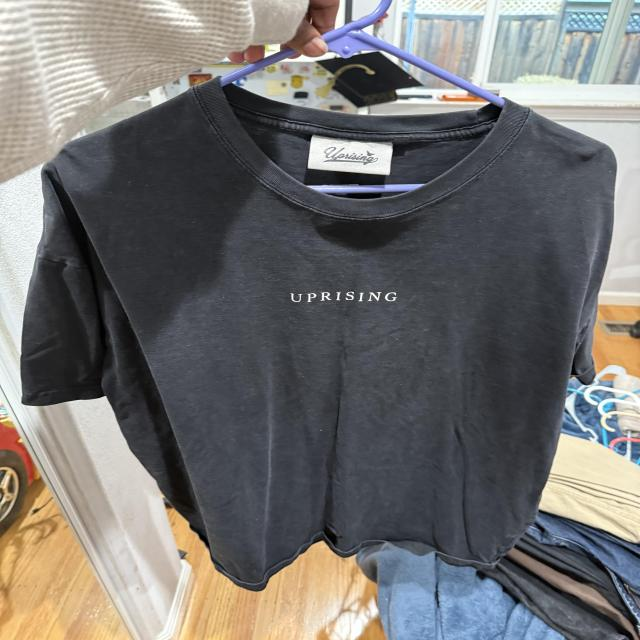back_tag: (310, 135, 396, 177)
